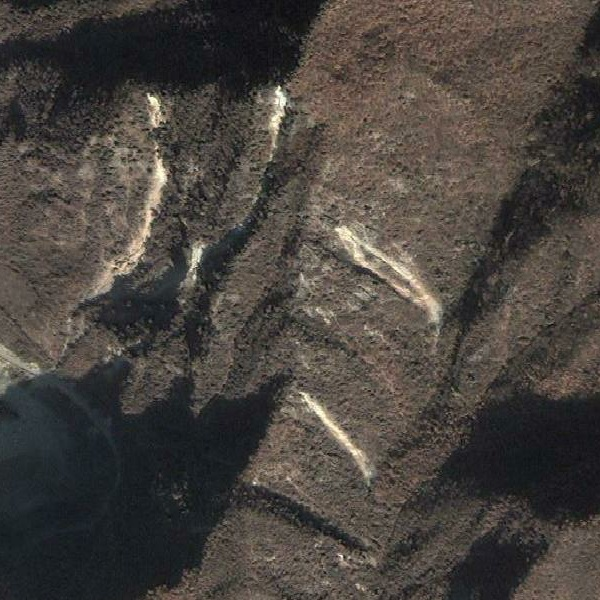slope: (86, 95, 170, 296), (334, 222, 448, 332), (297, 386, 378, 487), (261, 85, 287, 138), (185, 238, 208, 273)
